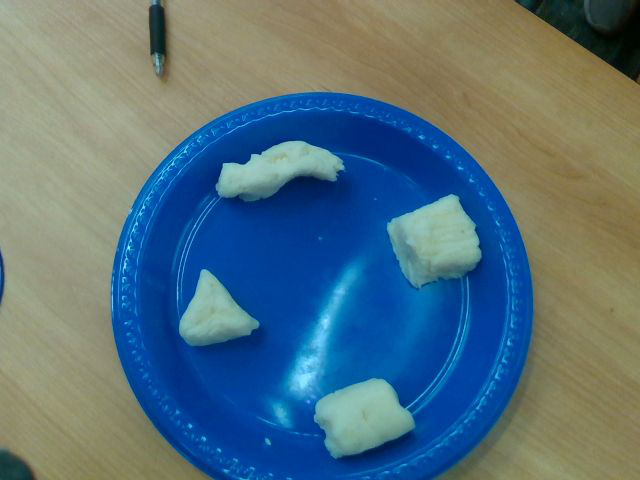mashed_potato: (388, 193, 481, 287), (316, 379, 414, 458), (217, 141, 343, 202), (179, 270, 258, 346)
